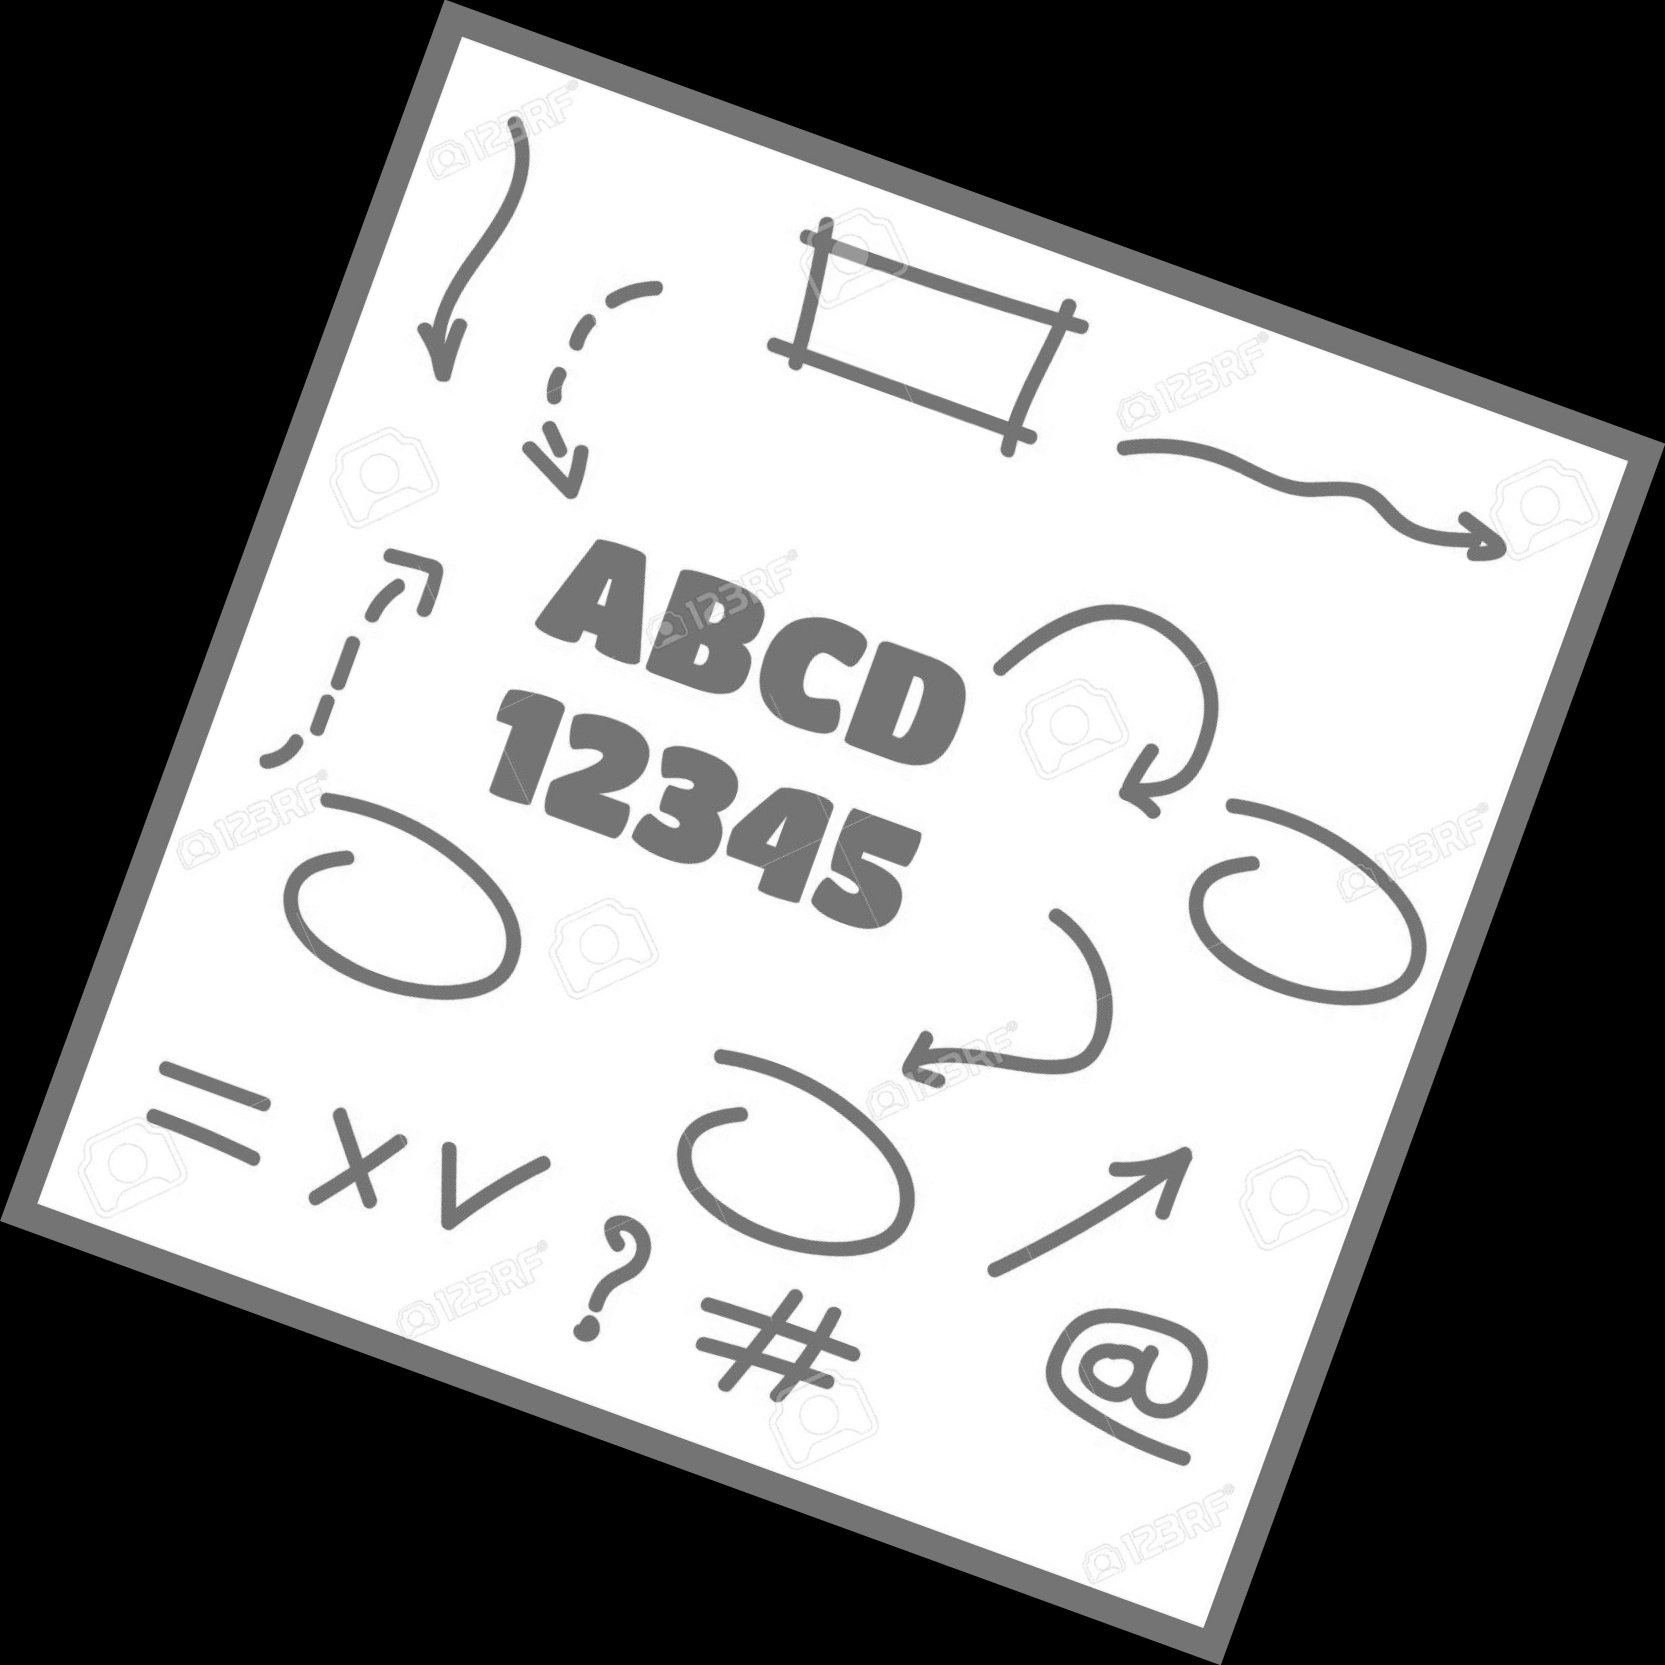arrow: (338, 537, 451, 682), (514, 351, 611, 512), (1064, 1136, 1198, 1253), (897, 1002, 1040, 1112), (1104, 706, 1218, 817), (409, 236, 485, 393), (1400, 486, 1514, 587)
